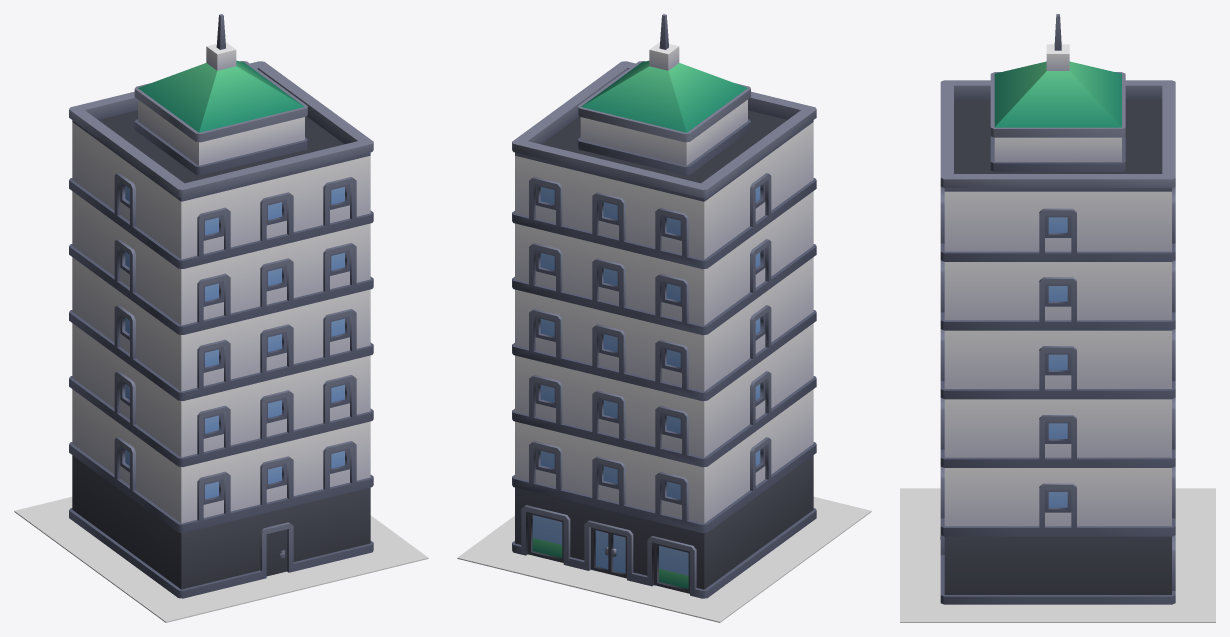
3 views of the same model, side by side, from view 1: azimuth 30°, elevation 25°; view 2: azimuth 150°, elevation 25°; view 3: azimuth 270°, elevation 25° (orthographic). The views are drawn at different scales.
Visible parts, largest first — view 1: building-m, Cube; view 2: building-m, Cube; view 3: building-m, Cube.
Part boxes in pixels (left/top/right/bottom): building-m: left=69, top=14, right=373, bottom=598; Cube: left=14, top=497, right=428, bottom=622; building-m: left=512, top=14, right=816, bottom=598; Cube: left=457, top=496, right=871, bottom=622; building-m: left=940, top=14, right=1175, bottom=604; Cube: left=900, top=488, right=1215, bottom=622.
Bounding box in the file's own units: 50 × 94.6 × 50.
Materials: 2 (1 with a texture image).
